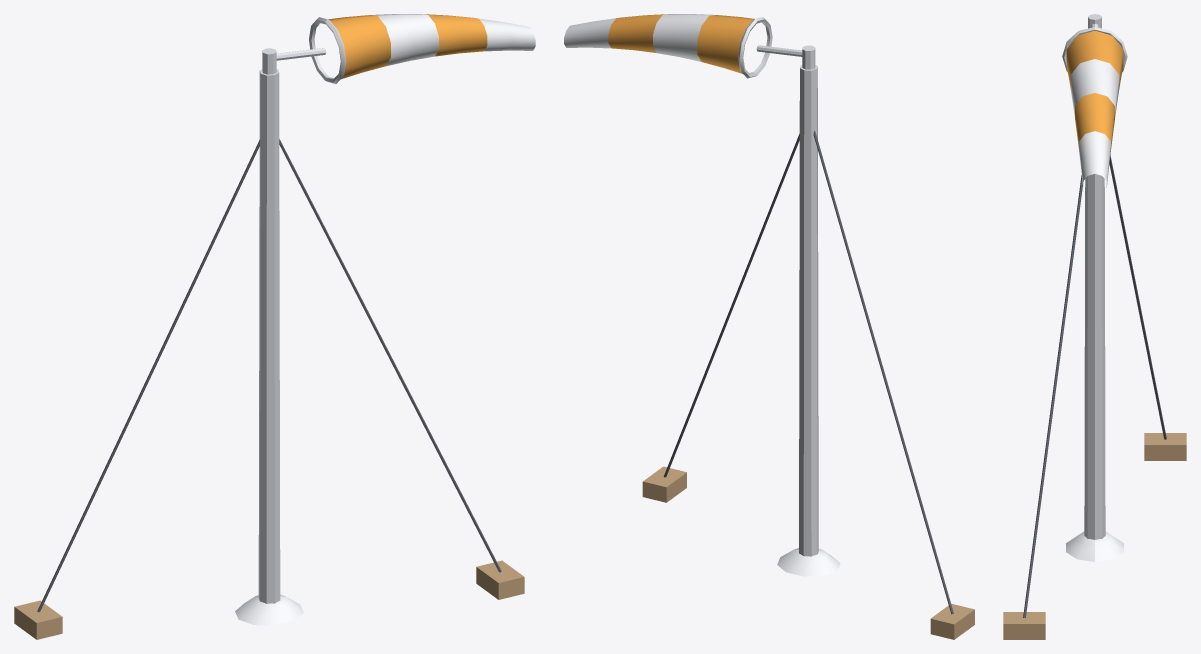
Rendered from backcountry-snowboarding-and-avalanche-safety-wind-soc-63e120e1__18958.glb.
3 renders of one model, left to right at view 1: azimuth 30°, elevation 25°; view 2: azimuth 150°, elevation 25°; view 3: azimuth 270°, elevation 25°, orthographic. The views are drawn at different scales.
Visible parts, largest first — view 1: wind-sock; view 2: wind-sock; view 3: wind-sock.
Boxes of the visible parts, x1,y1,x2,y2 form: wind-sock: (14,14,535,639); wind-sock: (564,14,974,639); wind-sock: (1003,14,1186,639).
Bounding box in the file's own units: 2.89 × 3.43 × 1.04.
